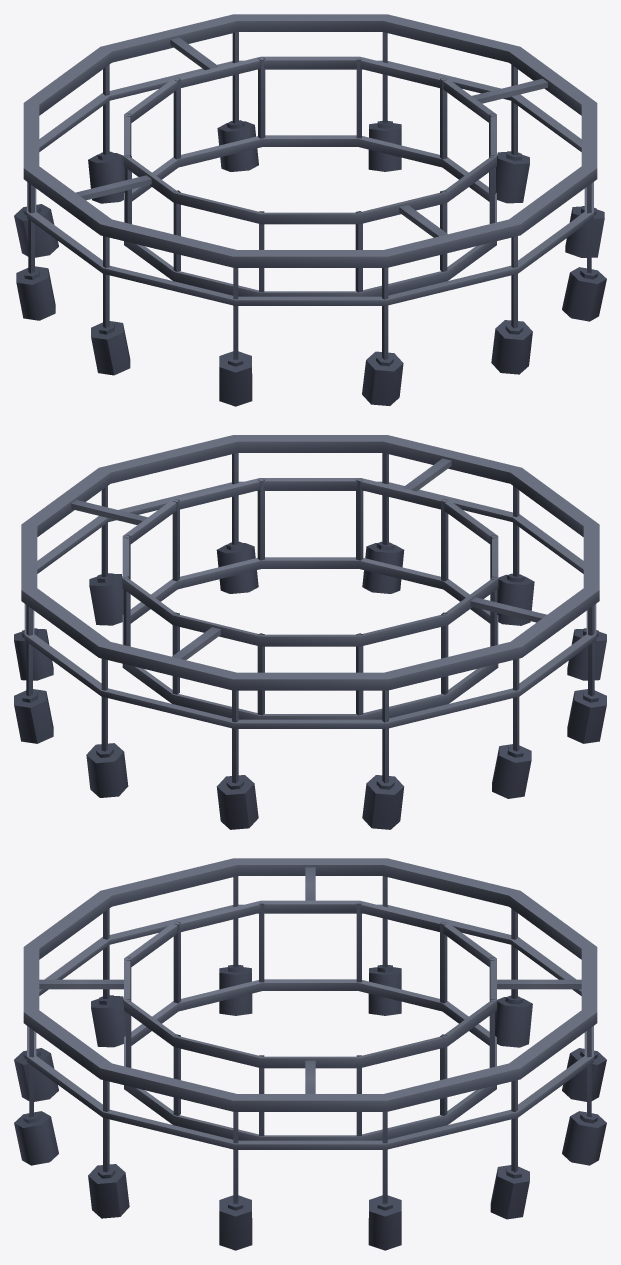
Rendered from squidgame_light_light5.fbx.
The picture shows the model from 3 angles, top to bottom: view 1: azimuth 30°, elevation 25°; view 2: azimuth 150°, elevation 25°; view 3: azimuth 270°, elevation 25°; orthographic projection.
Parts seen in each view (by area): view 1: squidgame_light_light5; view 2: squidgame_light_light5; view 3: squidgame_light_light5.
Part boxes in pixels (x1=…): squidgame_light_light5: x1=14, y1=14, x2=606, y2=406; squidgame_light_light5: x1=14, y1=435, x2=606, y2=829; squidgame_light_light5: x1=14, y1=858, x2=606, y2=1250.
Size of the model in its own units: 5.52 by 1.53 by 5.52.
